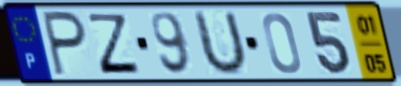0: (261, 11, 304, 76)
5: (302, 9, 352, 77)
9: (150, 10, 194, 76)
P: (40, 8, 90, 79)
U: (192, 8, 249, 79)
Z: (86, 11, 144, 76)
